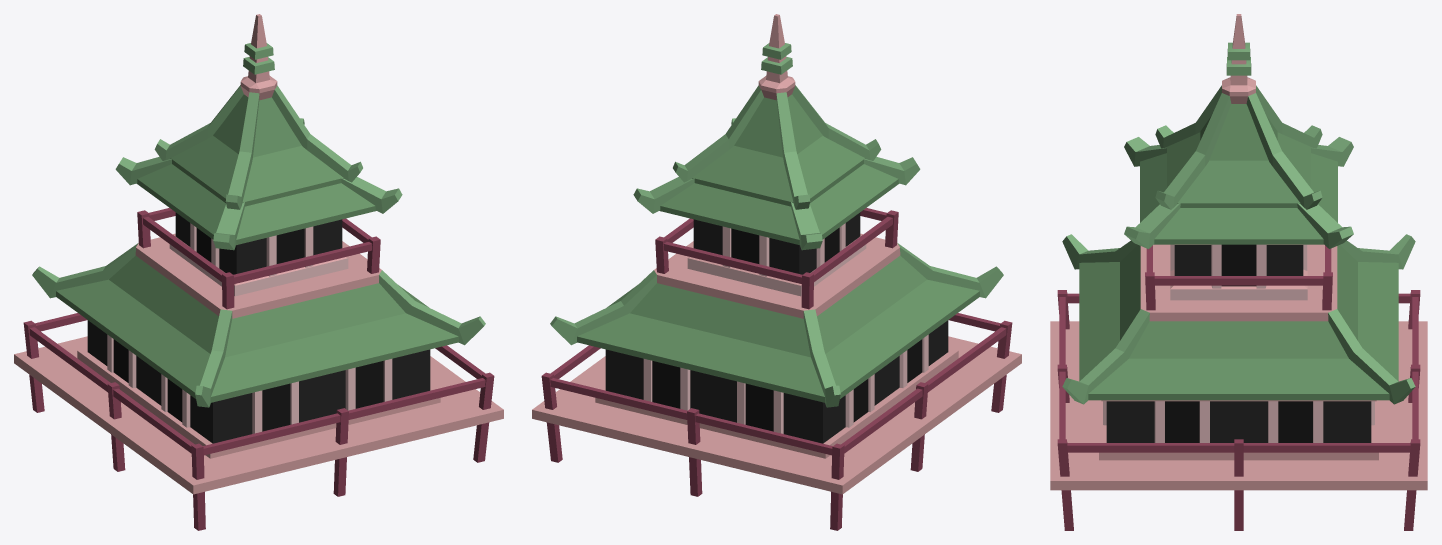
The model's file is House_Tiny5.fbx.
The picture shows the model from 3 angles, left to right: view 1: azimuth 30°, elevation 25°; view 2: azimuth 150°, elevation 25°; view 3: azimuth 270°, elevation 25°; orthographic projection. The views are drawn at different scales.
Parts seen in each view (by area): view 1: SM_Bld_Samurai_Temple_01; view 2: SM_Bld_Samurai_Temple_01; view 3: SM_Bld_Samurai_Temple_01.
Boxes of the visible parts, <box> form: SM_Bld_Samurai_Temple_01: <box>14,14,503,530</box>; SM_Bld_Samurai_Temple_01: <box>532,14,1021,530</box>; SM_Bld_Samurai_Temple_01: <box>1050,14,1427,530</box>.
Bounding box in the file's own units: 160 × 207 × 160.
